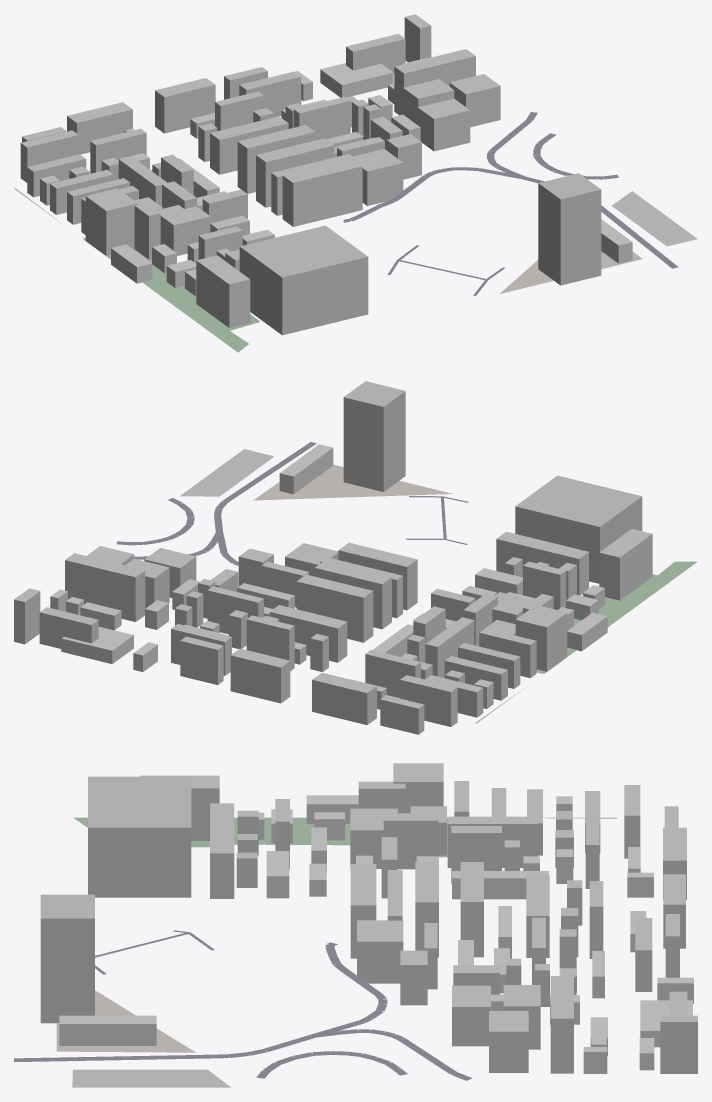
The model's file is 112_89_mid.glb.
3 views of the same model, one above another, from view 1: azimuth 30°, elevation 25°; view 2: azimuth 150°, elevation 25°; view 3: azimuth 270°, elevation 25° (orthographic). The views are drawn at different scales.
Bounding box in the file's own units: 508 × 92.04 × 531.
